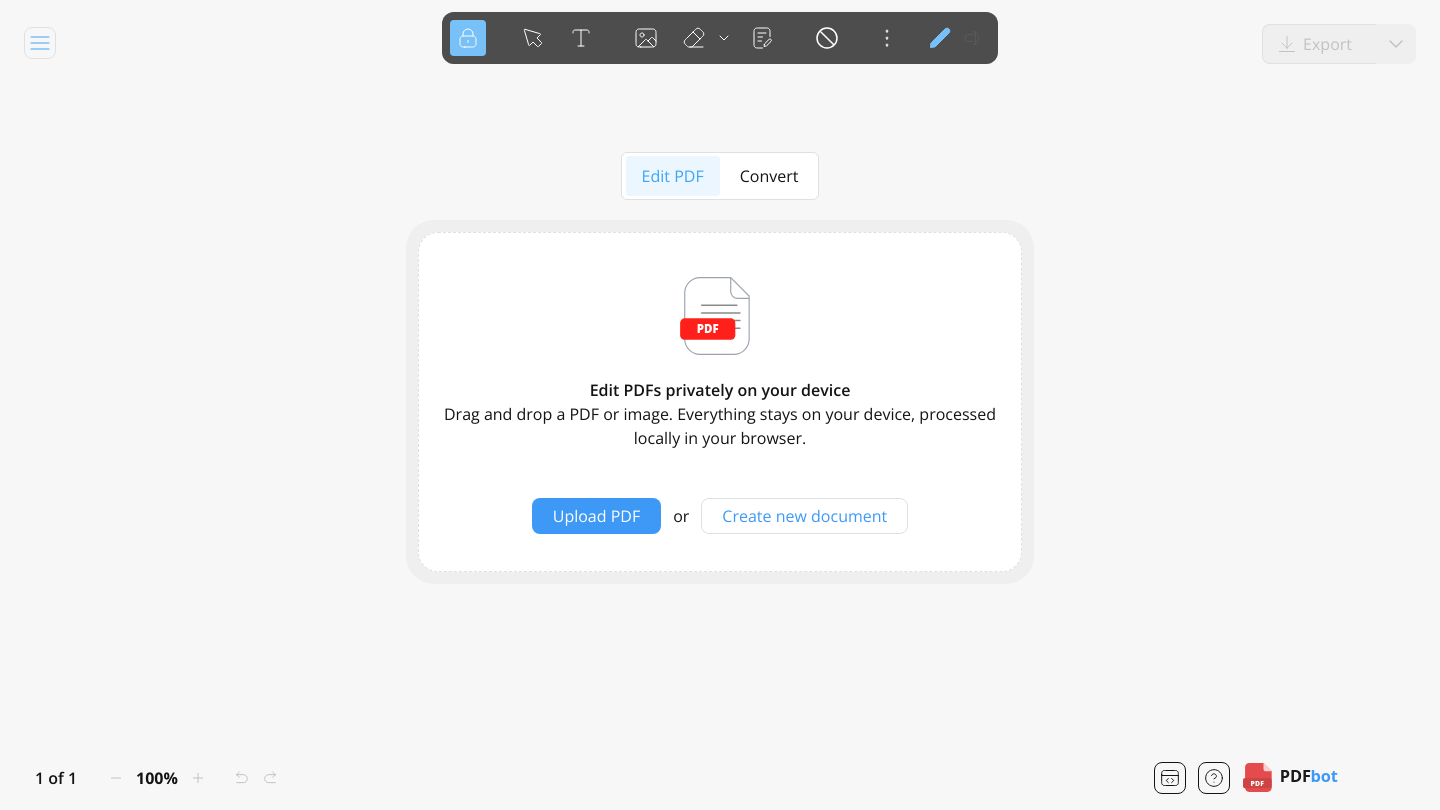
Test: EditorWorkspaceShell › opens Open menu dropdown with all menu items disabled
The width and height of the screenshot is (1440, 810).
Click the button named "open menu": (40, 43) [24,27,56,59]
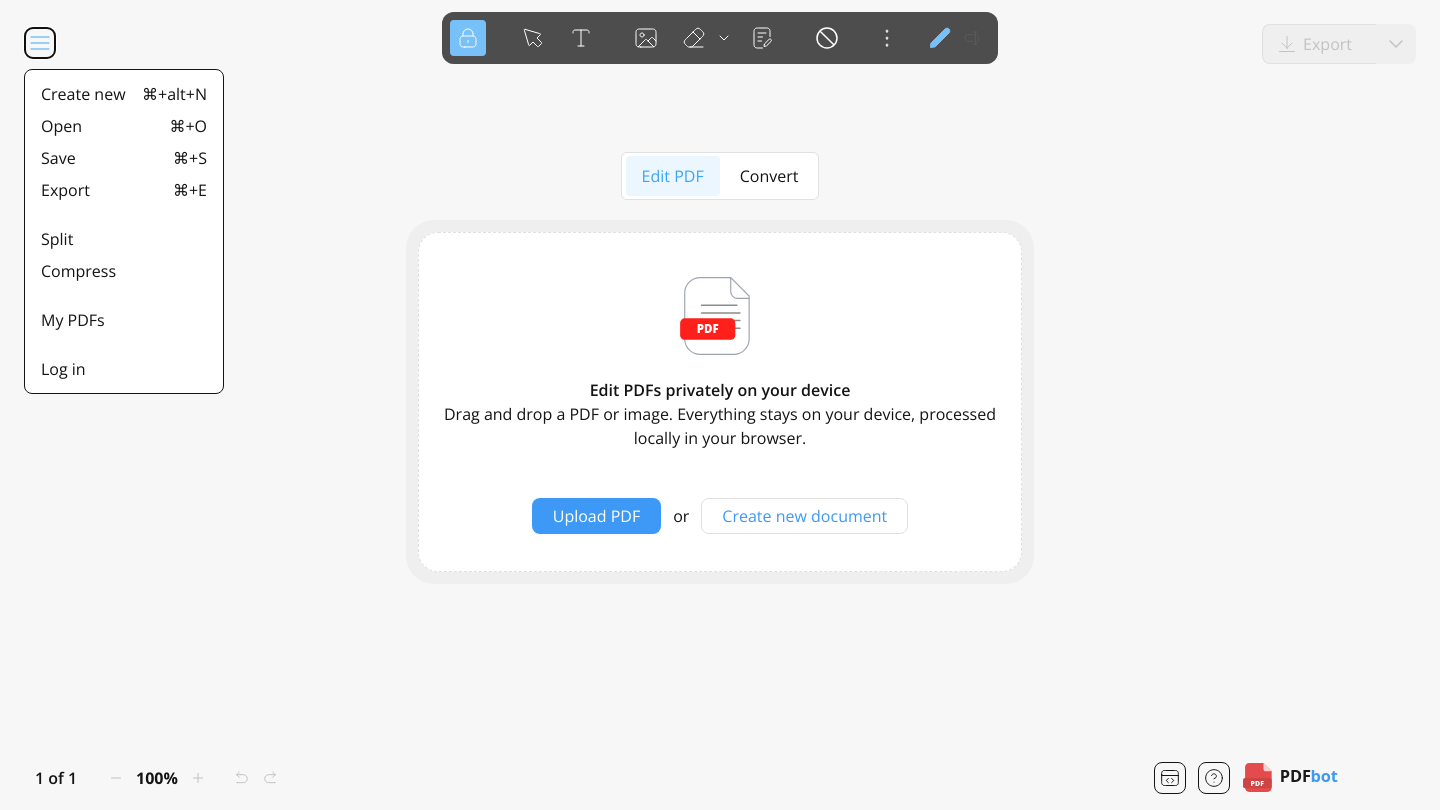
Expected: the menu is shown, [24,69,224,394]
Expected: the menu item "Create new ⌘+alt+N" is shown, [33,78,215,110]
